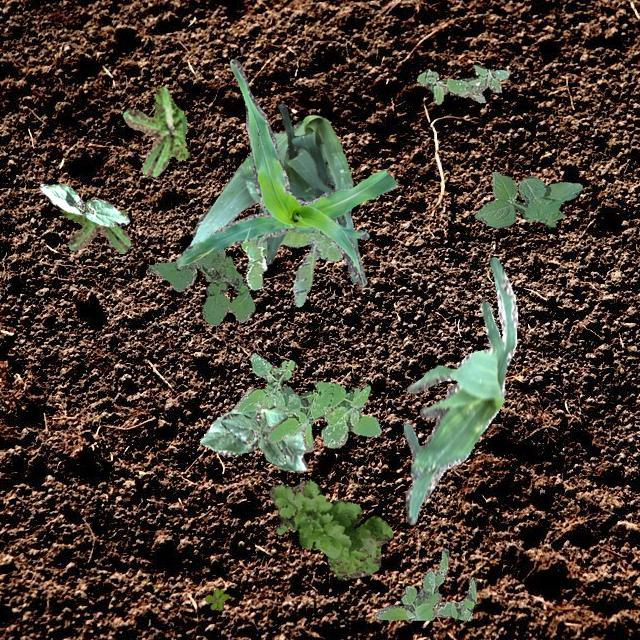crop: (175, 58, 398, 286), (402, 256, 516, 524), (188, 114, 358, 280), (240, 102, 346, 262), (198, 404, 306, 470), (38, 182, 128, 225), (220, 412, 284, 464)
weed: (232, 352, 380, 451), (268, 478, 392, 578), (148, 214, 254, 324), (240, 228, 342, 306), (374, 548, 476, 620), (474, 170, 582, 227), (122, 86, 188, 178), (416, 64, 508, 104), (61, 208, 130, 252), (205, 588, 228, 608)
